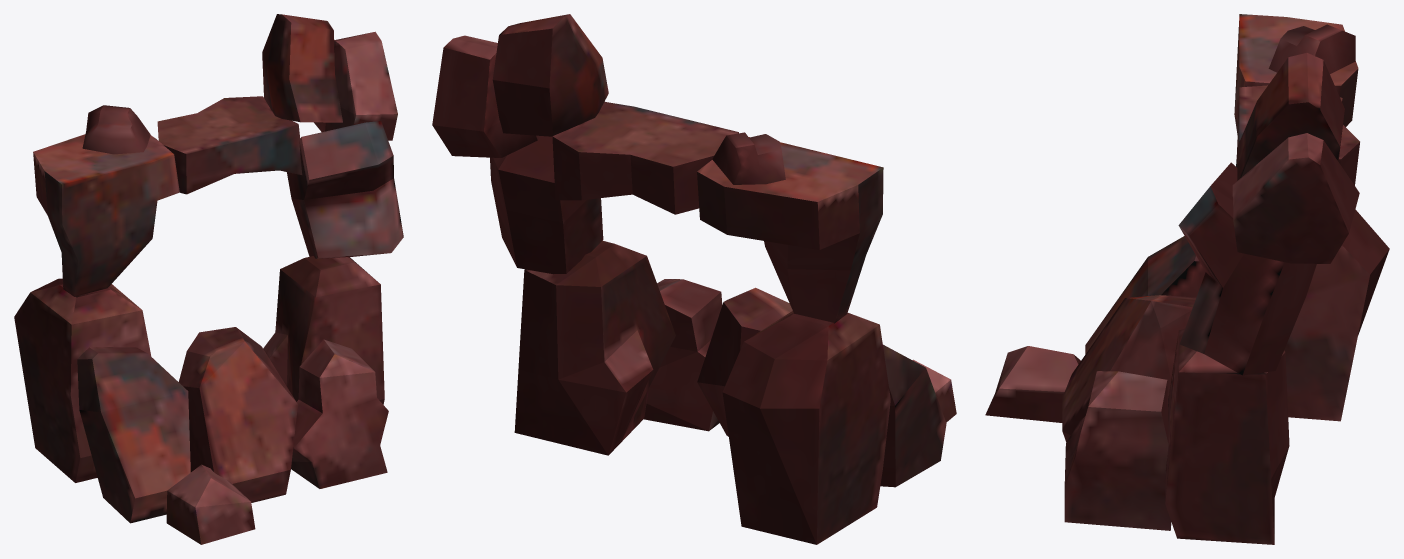
File: huoguanshizhu4.FBX
3 renders of one model, left to right at view 1: azimuth 30°, elevation 25°; view 2: azimuth 150°, elevation 25°; view 3: azimuth 270°, elevation 25°, orthographic. The views are drawn at different scales.
Visible parts, largest first — view 1: huoguanshizhu4; view 2: huoguanshizhu4; view 3: huoguanshizhu4.
Part boxes in pixels (bbox=[...]): huoguanshizhu4: bbox=[14, 14, 403, 544]; huoguanshizhu4: bbox=[432, 14, 956, 544]; huoguanshizhu4: bbox=[985, 14, 1389, 544].
Bounding box in the file's own units: 750 × 630 × 804.
